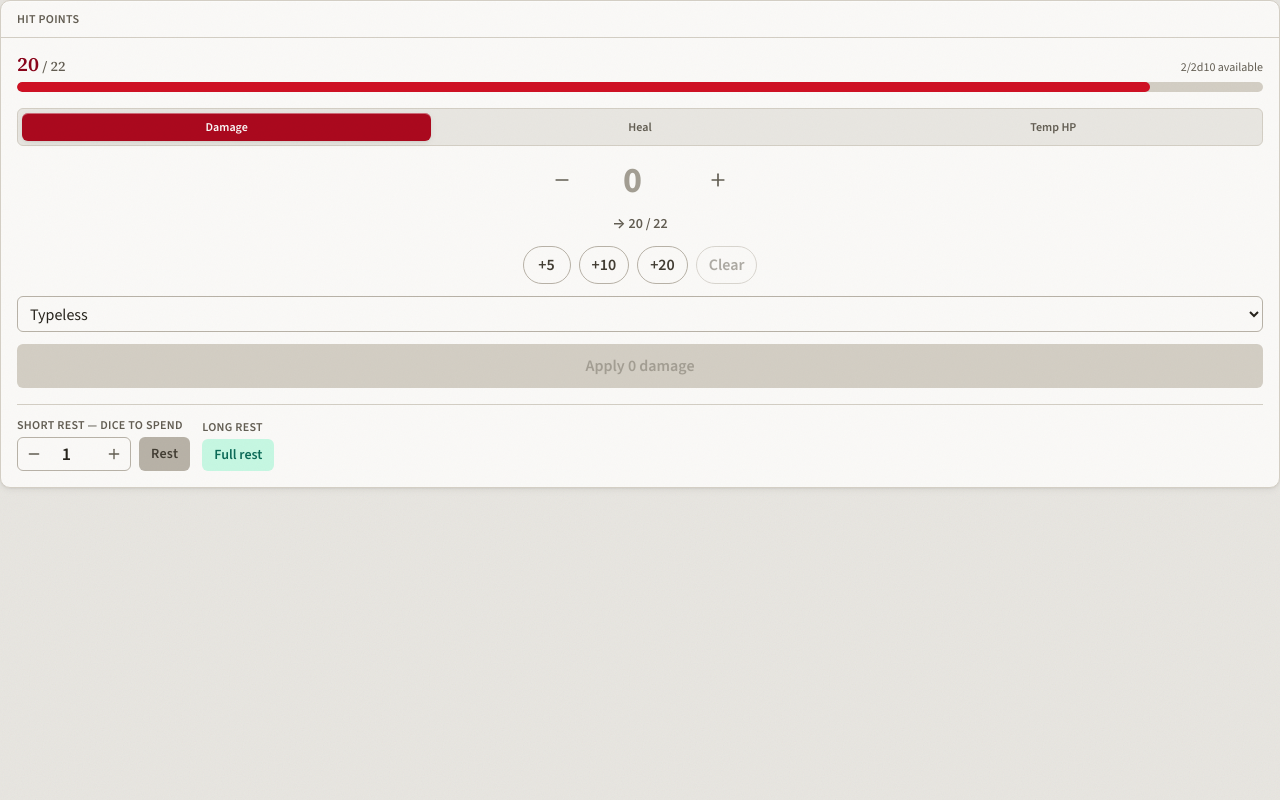
HitPointTracker concentration toast (issue #41) › toasts a held concentration save
Type "8" into the number field named "damage amount" at (640, 180), box top-left (592, 160), bottom-right (688, 200)
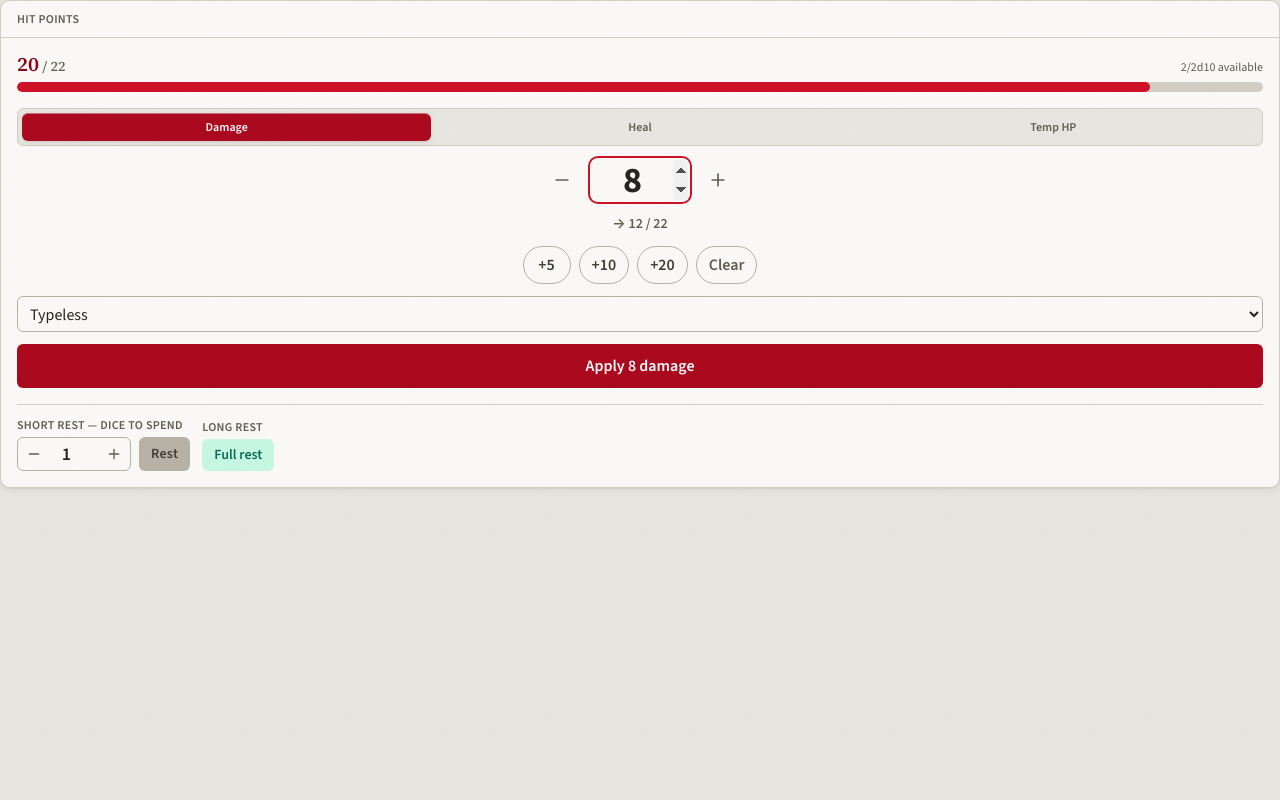
Click the button "Apply 8 damage" at (640, 366), box top-left (17, 344), bottom-right (1263, 388)
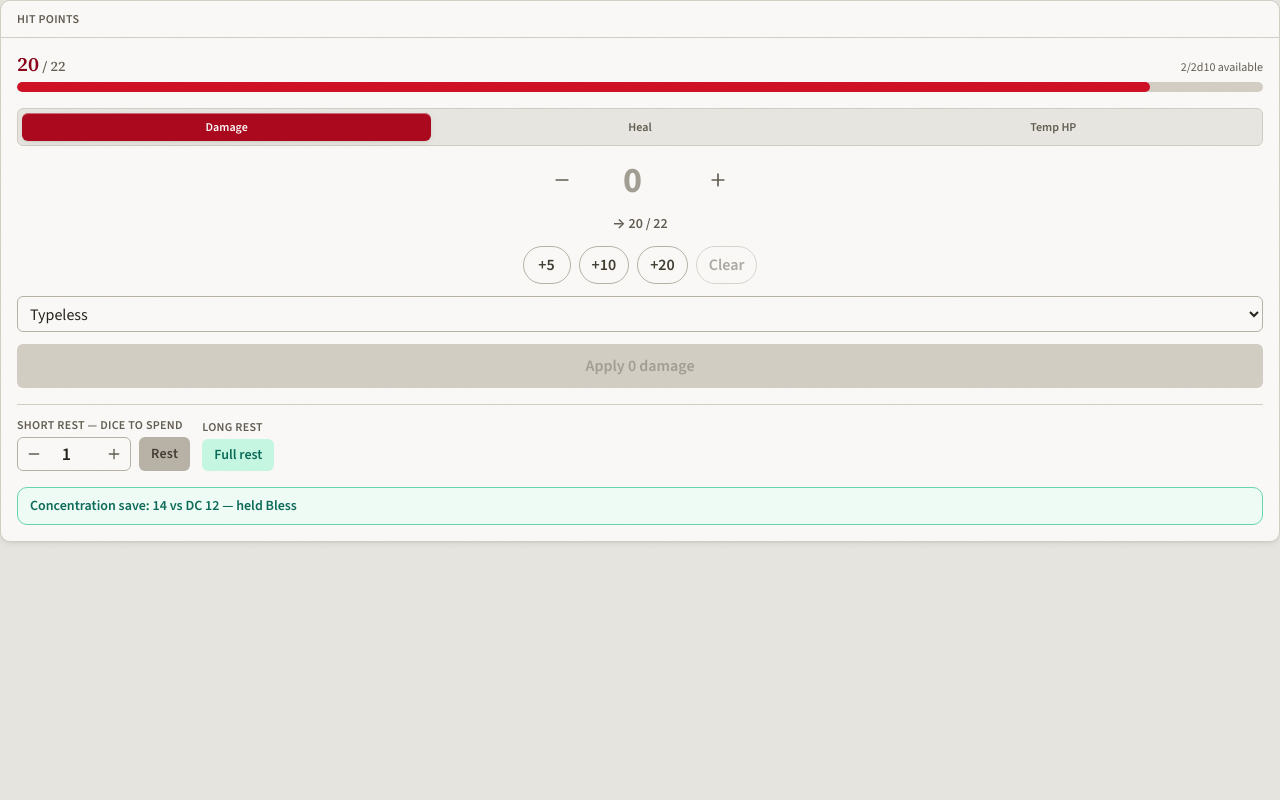
Result: the message shows "14 vs DC 12" at top-left (30, 496), bottom-right (297, 515)
Result: the message shows "held" at top-left (30, 496), bottom-right (297, 515)
Result: the message shows "Bless" at top-left (30, 496), bottom-right (297, 515)
